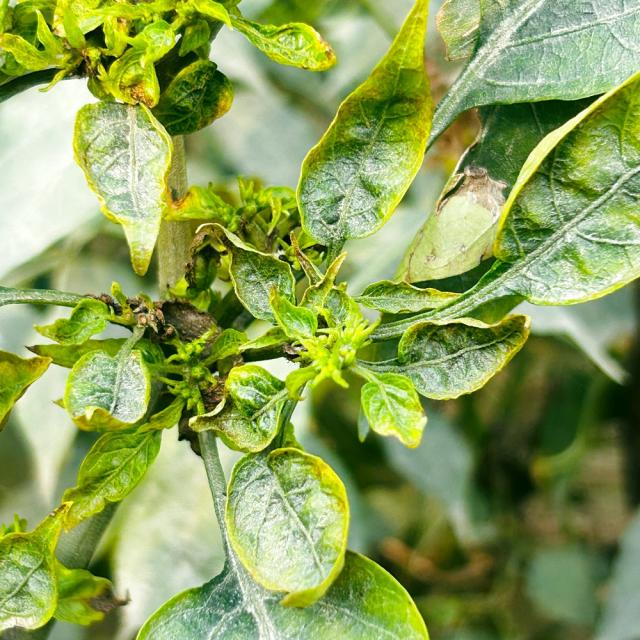Chilli_Leaf_Curl: (0, 1, 639, 638), (0, 0, 337, 276), (352, 69, 638, 359), (134, 436, 430, 639), (1, 0, 337, 135), (490, 70, 639, 306), (294, 0, 435, 249), (422, 0, 639, 156), (222, 444, 350, 609), (70, 98, 174, 276), (394, 162, 508, 284), (62, 346, 152, 433)
